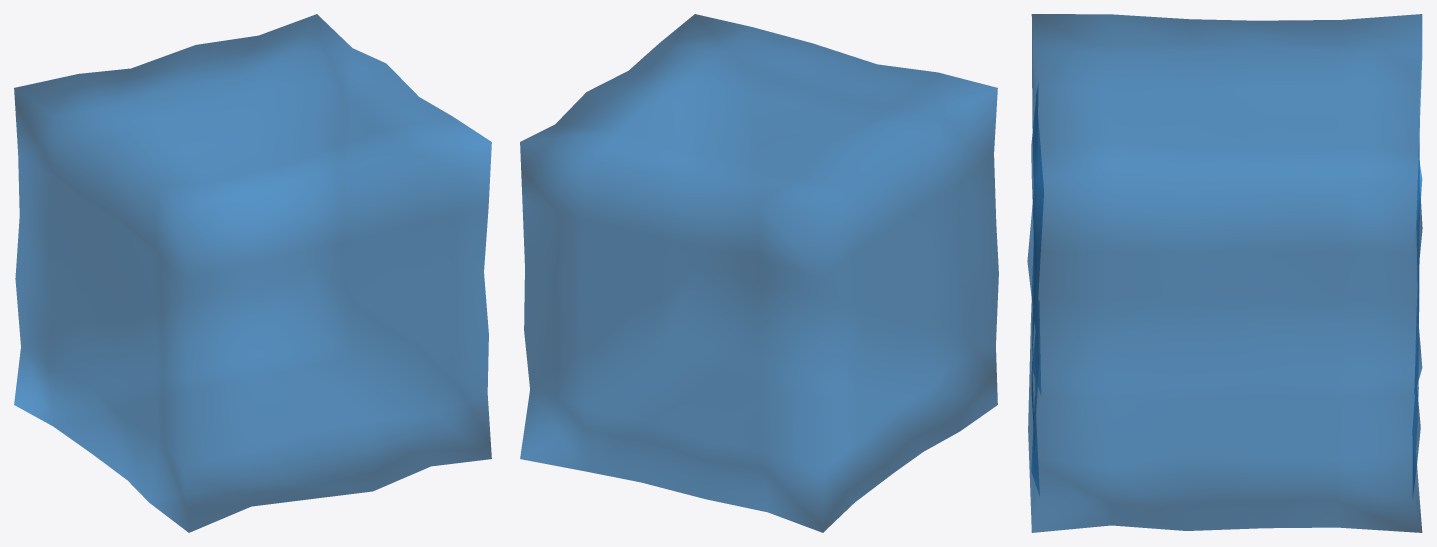
The model's file is Ice Cube.fbx.
3 views of the same model, side by side, from view 1: azimuth 30°, elevation 25°; view 2: azimuth 150°, elevation 25°; view 3: azimuth 270°, elevation 25° (orthographic). The views are drawn at different scales.
Parts seen in each view (by area): view 1: Ice; view 2: Ice; view 3: Ice.
Boxes of the visible parts, box(x1,y1,x2,y2) form: Ice: box(14, 14, 491, 532); Ice: box(520, 14, 998, 532); Ice: box(1027, 14, 1422, 532).
Size of what is drawn, in the model's own units: 49.78 by 49.85 by 49.46.
